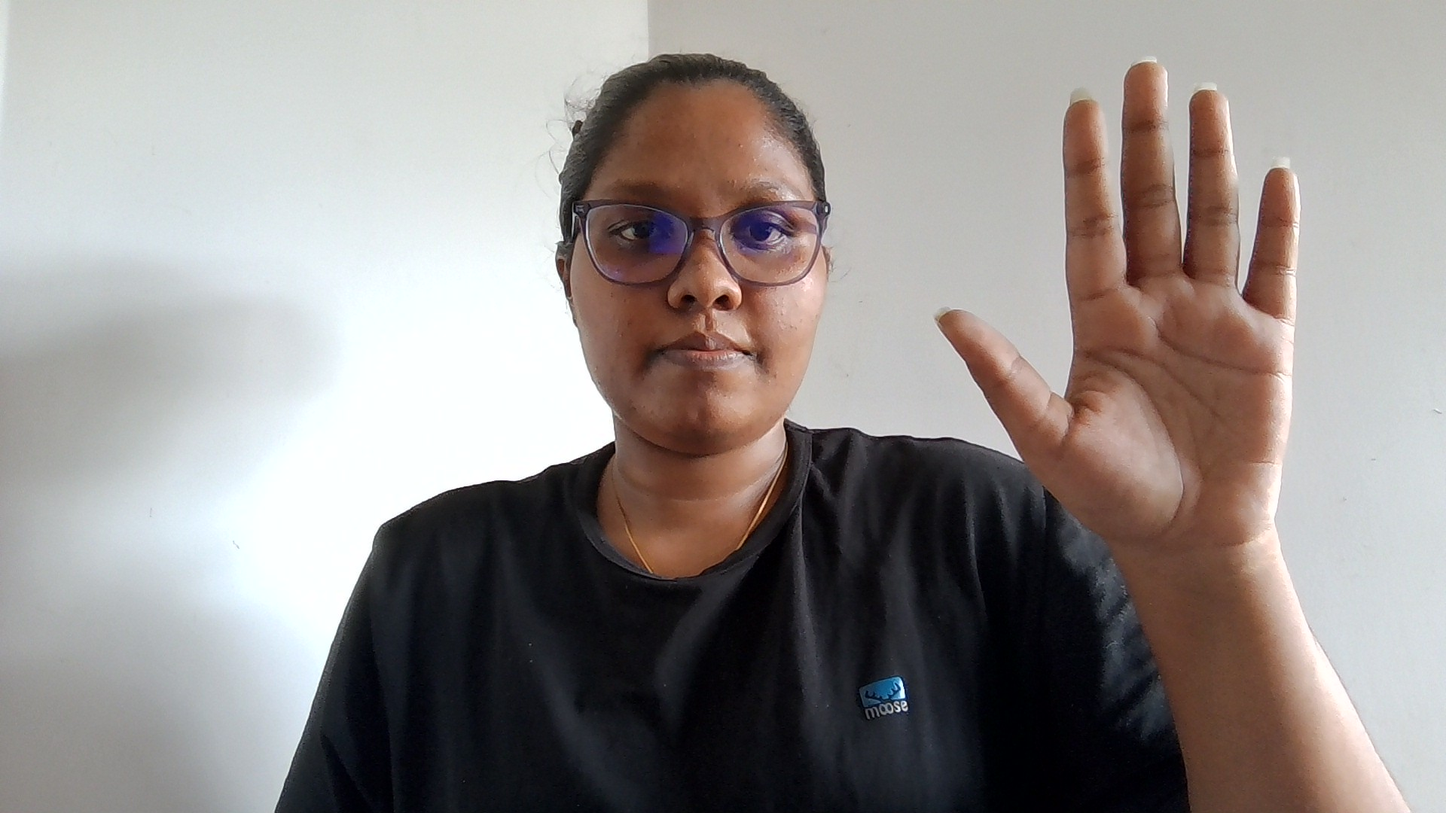Hello: (943, 27, 1347, 600)
